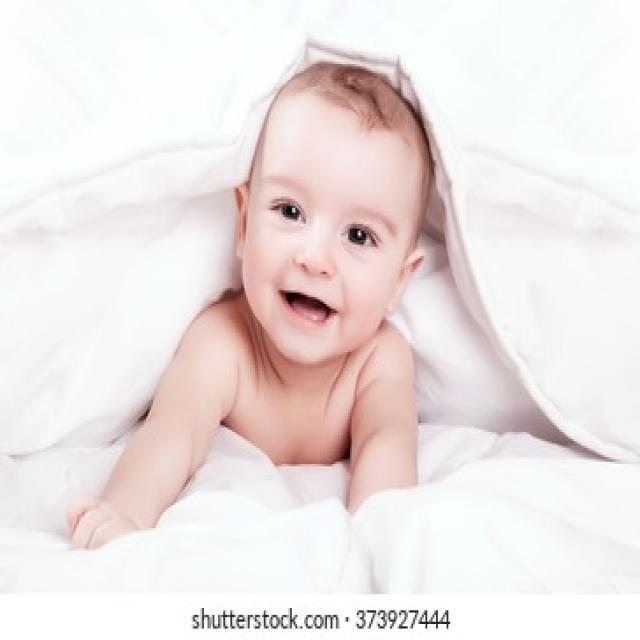non-dog: (72, 65, 435, 550)
